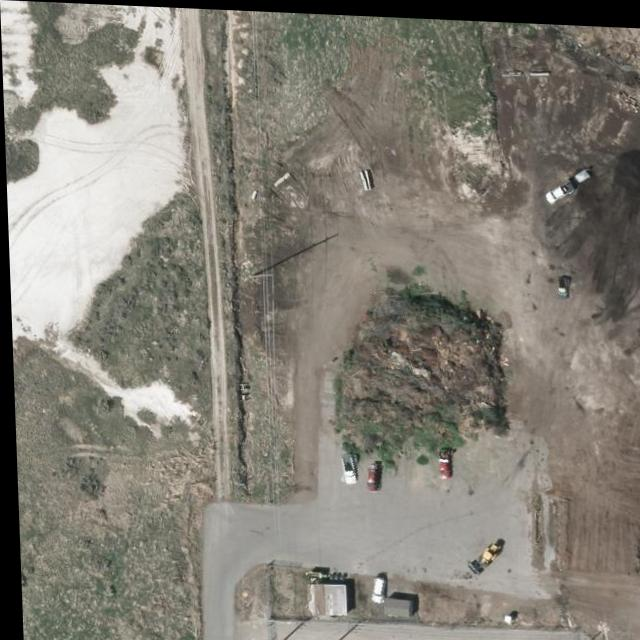vehicle: (332, 448, 360, 484), (542, 173, 577, 201), (430, 440, 454, 478), (363, 460, 380, 489), (553, 270, 571, 297), (367, 574, 383, 600)
